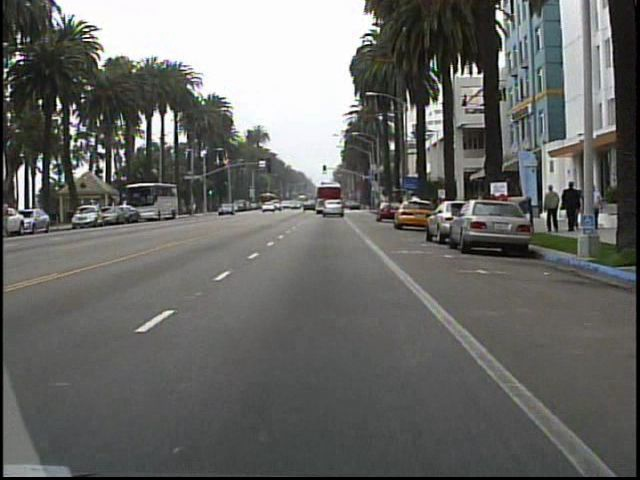person: (560, 179, 581, 233), (543, 183, 561, 236), (587, 181, 605, 231)
